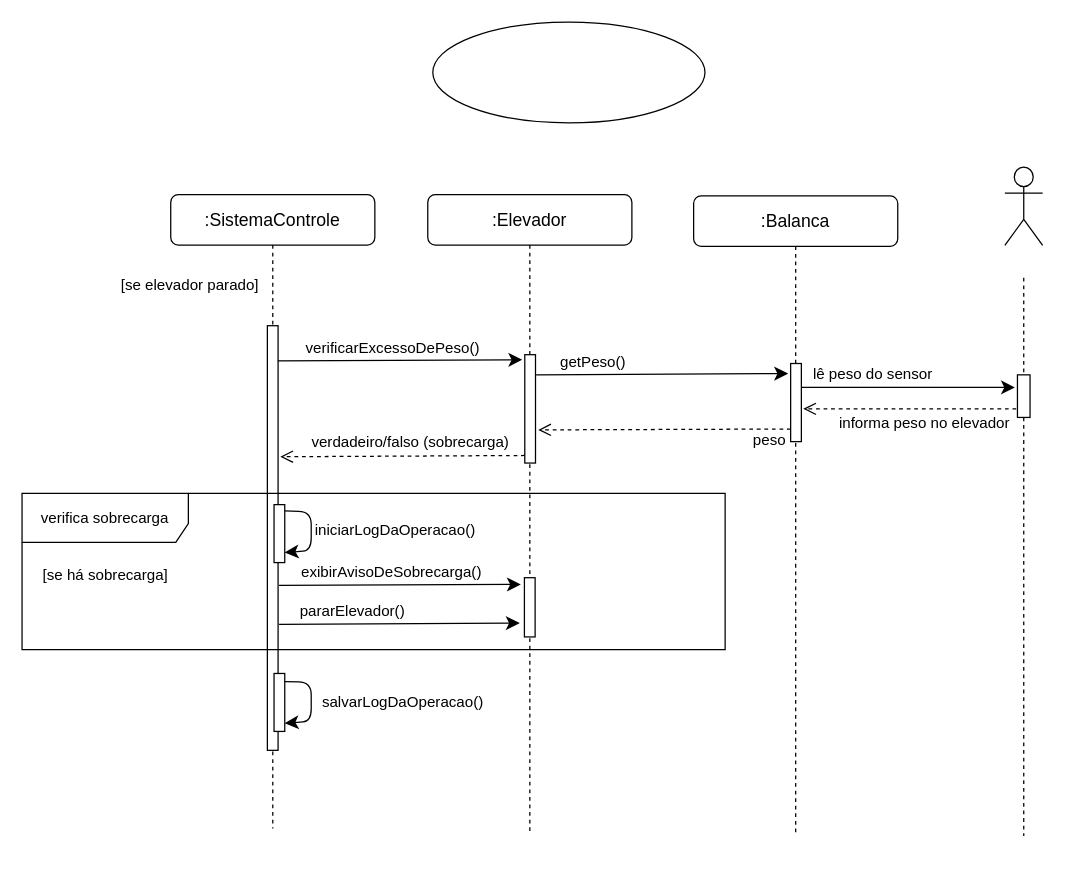
Image size: 1072x871. Some labels were removed from this diagram. The centre of each missing label's shape, as x and y in pixels:
"Balança" goes at point (1023, 205).
"UC-09 Ativar Procedimento de Excesso de Carga Máxima" goes at point (568, 72).
